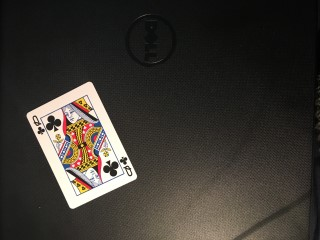QueenOfClubs: (26, 81, 138, 209)
